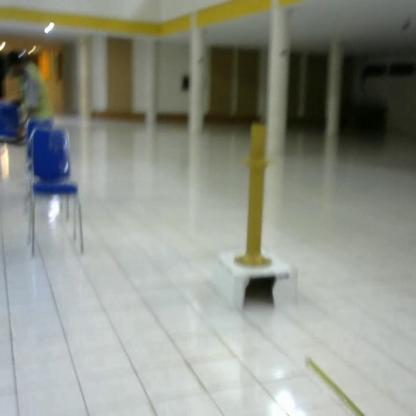pole: (228, 120, 283, 277)
